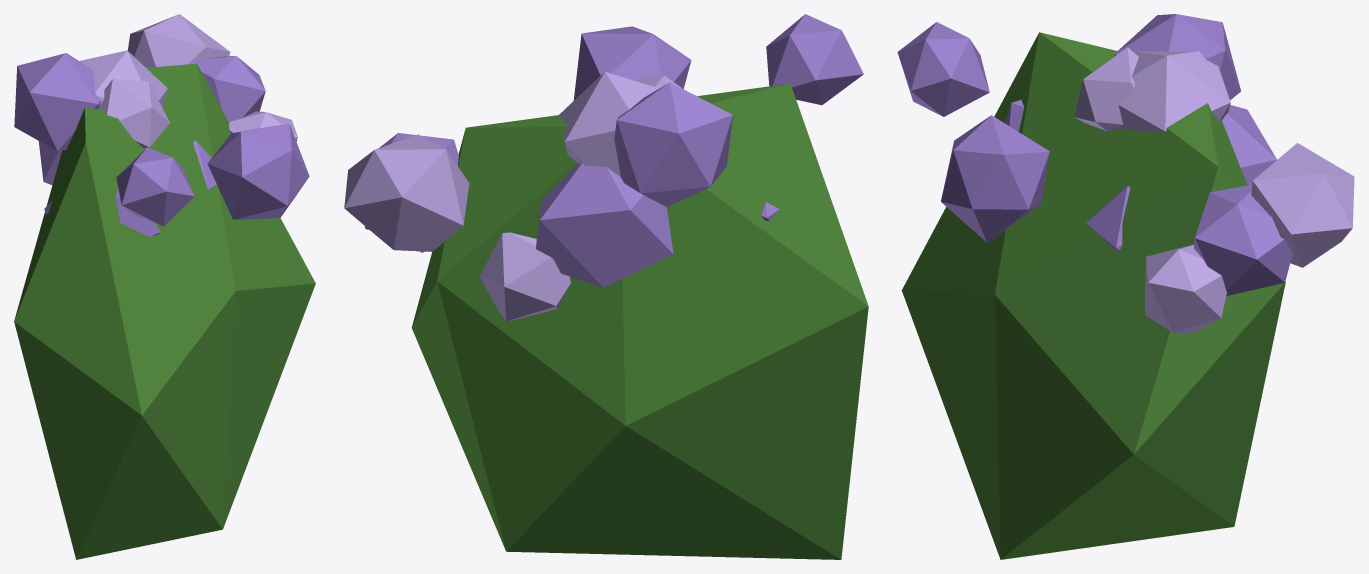
The model's file is getkong-hhblume4.glb.
3 renders of one model, left to right at view 1: azimuth 30°, elevation 25°; view 2: azimuth 150°, elevation 25°; view 3: azimuth 270°, elevation 25°, orthographic. The views are drawn at different scales.
Parts seen in each view (by area): view 1: blume4; view 2: blume4; view 3: blume4.
Boxes of the visible parts, box(x1,y1,x2,y2) form: blume4: box(14, 14, 315, 559); blume4: box(344, 14, 868, 559); blume4: box(897, 14, 1354, 559).
Bounding box in the file's own units: 0.6226 × 0.7644 × 0.6318.
